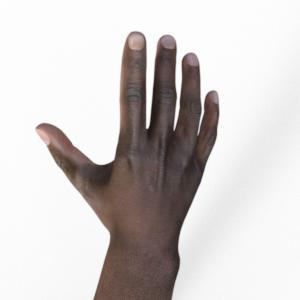paper: (36, 32, 219, 300)
